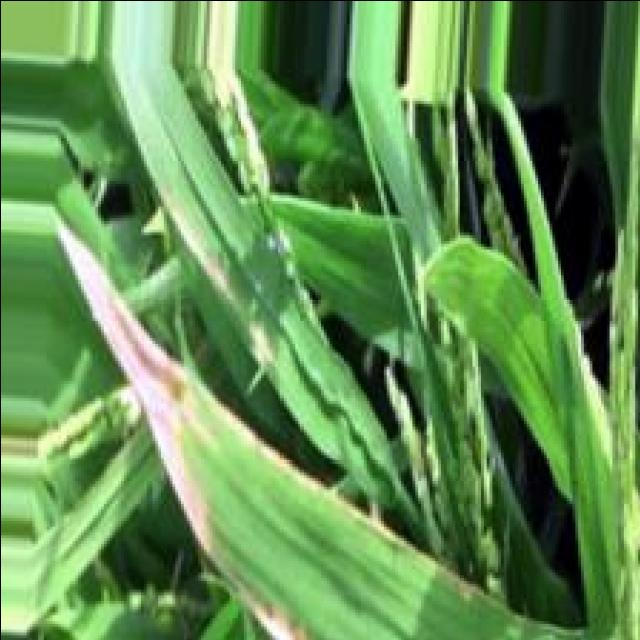Unhealthy: (50, 214, 212, 555), (252, 606, 310, 640), (250, 321, 275, 364)
